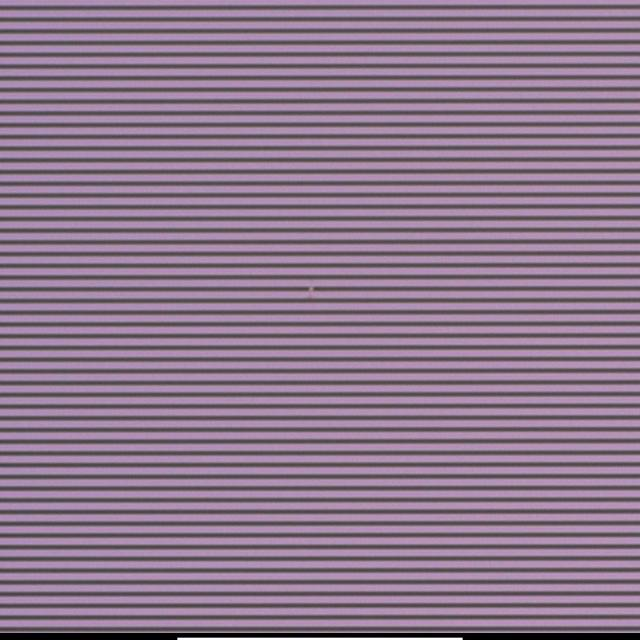03_intrusion: (308, 281, 318, 299)
